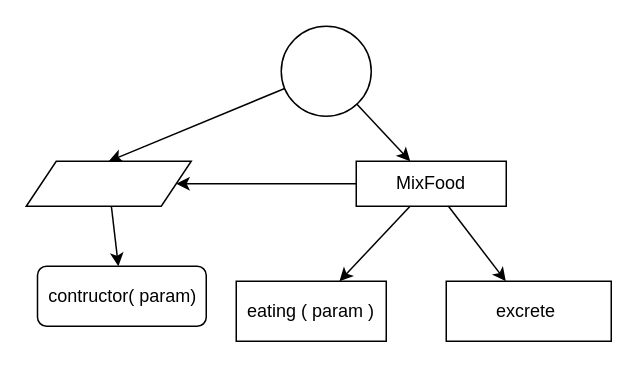
Some shapes in this 638 by 368 pixel diagram are drawn without their labels. The centre of each missing label's shape, as x and y in pixels:
Human: point (108, 183)
start: point (325, 70)
